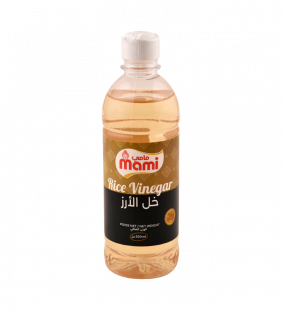MAMI: (101, 30, 181, 280)
